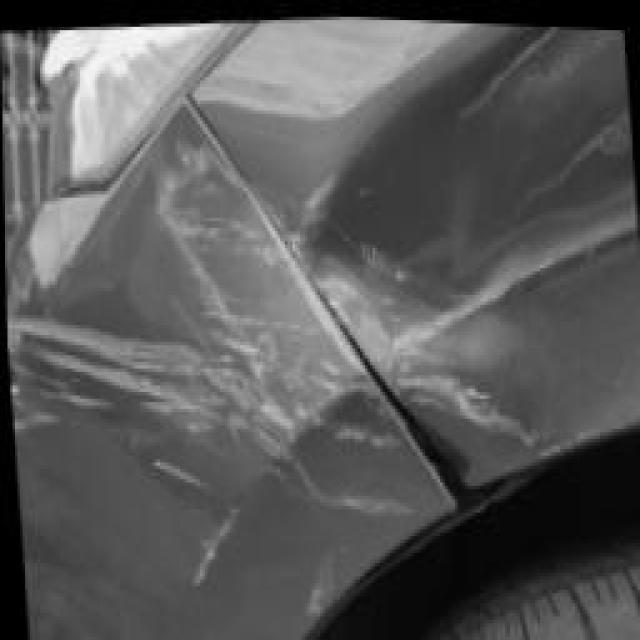Bumper: (2, 114, 407, 640)
Fender: (285, 47, 530, 462)
